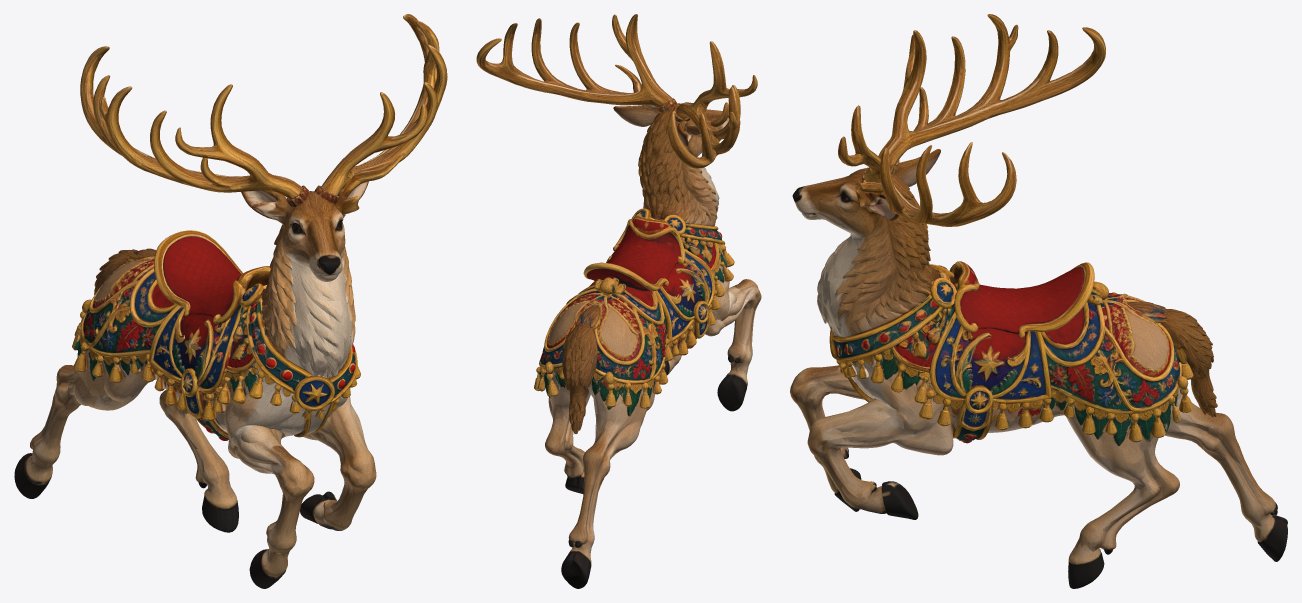
The model's file is stag.glb.
The picture shows the model from 3 angles, left to right: view 1: azimuth 30°, elevation 25°; view 2: azimuth 150°, elevation 25°; view 3: azimuth 270°, elevation 25°; orthographic projection. The views are drawn at different scales.
Bounding box in the file's own units: 1.19 × 1.9 × 1.6.
1 material, 1 textured.
